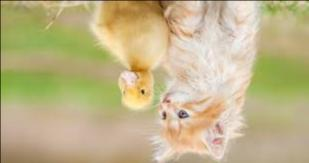Non_Gorille: (70, 0, 251, 162)
